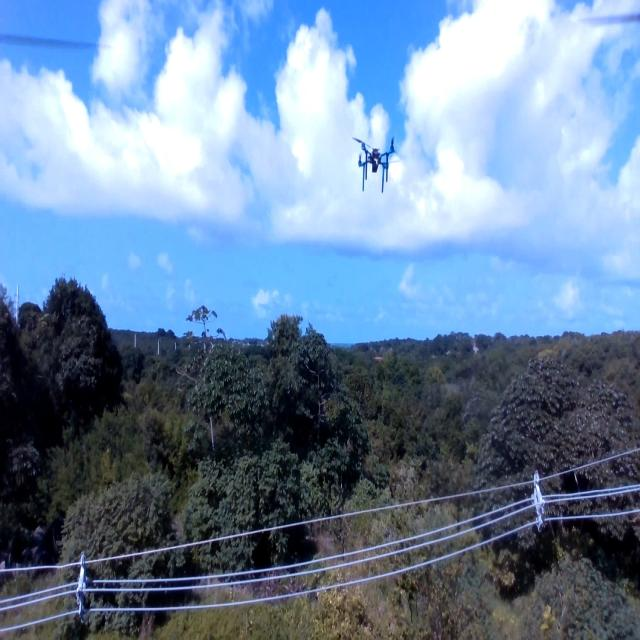-uav-: (349, 123, 403, 197)
